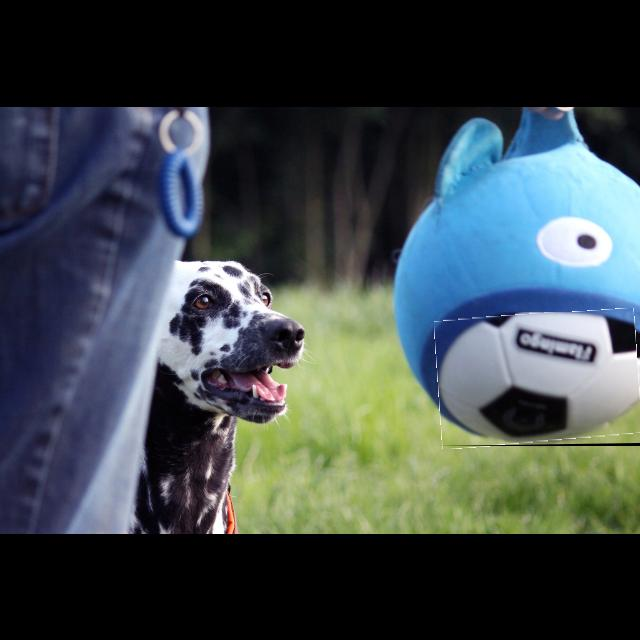Football: (436, 312, 640, 446)
